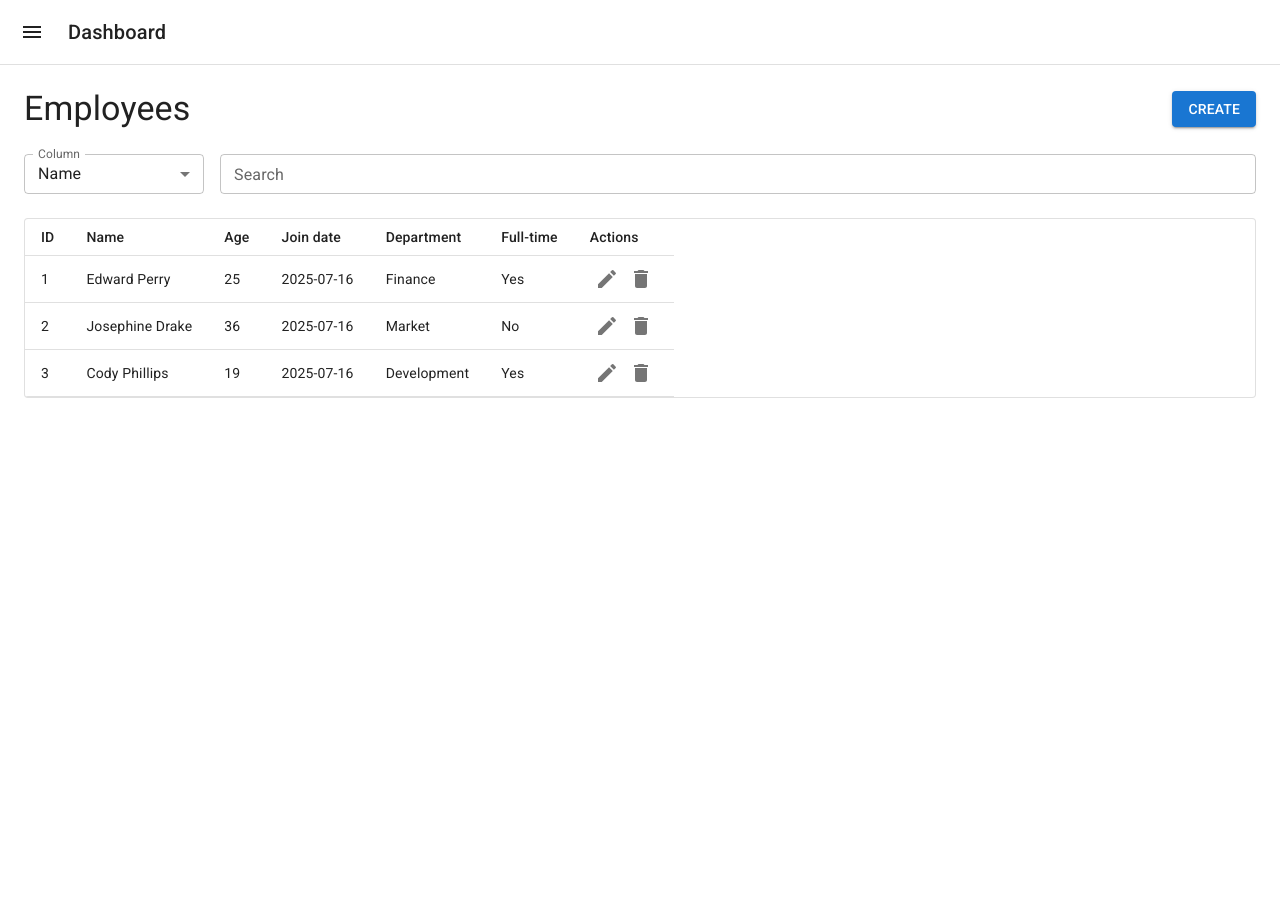
routes › 更新ボタンを押すと詳細と同じ項目の更新画面を表示する
Click the button named "Edit Edward Perry": (607, 279) [590,262,624,296]
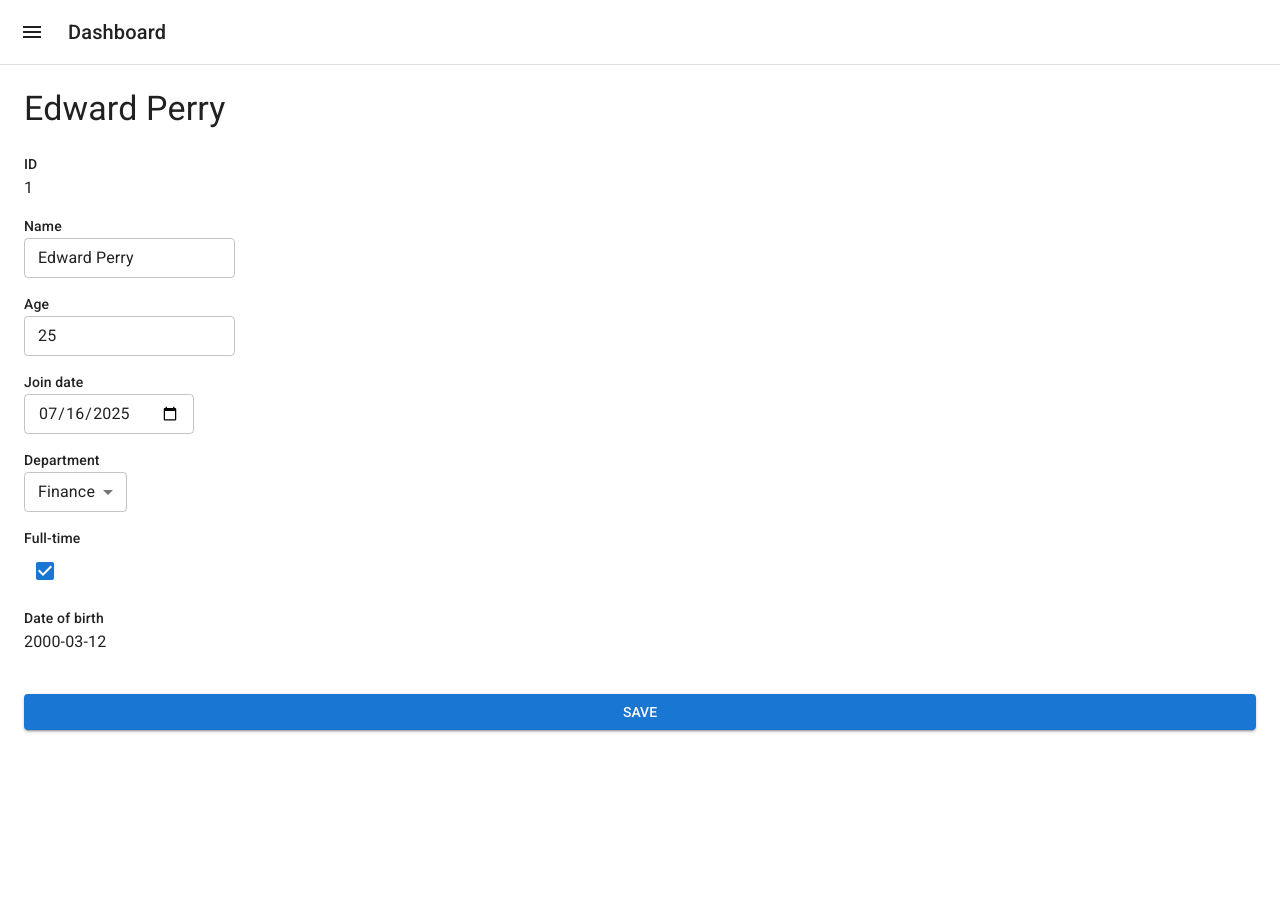
Expected: the heading "Edward Perry" is shown, [24,88,226,128]
Expected: the text "Date of birth" is shown, [24,610,104,626]
Expected: the text "2000-03-12" is shown, [24,632,106,651]
